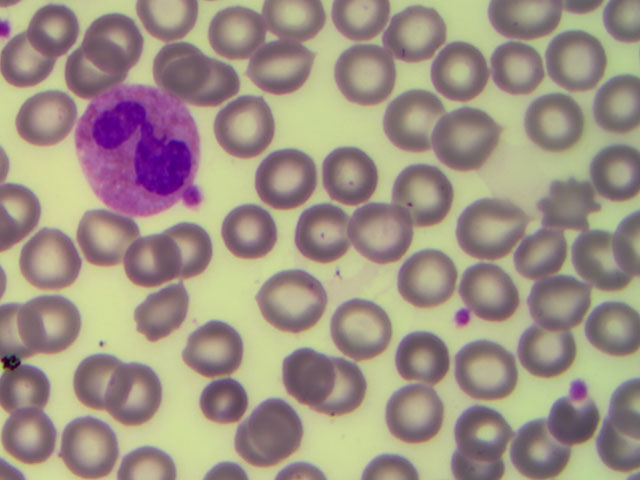Platelets: (569, 376, 587, 397), (451, 306, 469, 324)
RBC: (1, 33, 50, 84), (18, 92, 67, 143), (65, 43, 114, 94), (91, 14, 140, 65), (150, 32, 199, 83), (185, 56, 234, 107), (212, 7, 261, 58), (260, 42, 309, 93), (345, 48, 394, 99), (385, 8, 434, 59), (440, 45, 489, 96), (496, 43, 545, 94), (558, 24, 607, 75), (585, 70, 634, 121), (591, 144, 640, 195), (526, 95, 575, 146), (440, 109, 489, 160), (396, 90, 445, 141), (393, 166, 442, 217), (347, 209, 396, 260), (298, 198, 347, 249), (322, 151, 371, 202), (265, 149, 314, 200), (225, 204, 274, 255), (222, 99, 271, 150), (135, 231, 184, 282), (171, 215, 220, 266), (80, 209, 129, 260), (27, 231, 76, 282), (31, 285, 80, 336), (68, 351, 117, 402), (115, 368, 164, 419), (63, 423, 112, 474), (3, 406, 52, 457), (200, 369, 249, 420), (187, 330, 236, 381), (140, 290, 189, 341), (269, 275, 318, 326), (285, 358, 334, 409), (309, 354, 358, 405), (253, 404, 302, 455), (395, 326, 444, 377), (333, 300, 382, 351), (397, 394, 446, 445), (454, 403, 503, 454), (461, 344, 510, 395), (517, 330, 566, 381), (533, 282, 582, 333), (457, 264, 506, 315), (404, 251, 453, 302), (470, 207, 519, 258), (506, 228, 555, 279), (570, 227, 619, 278), (549, 177, 598, 228), (591, 303, 640, 354), (513, 421, 562, 472), (546, 392, 595, 443), (27, 1, 76, 51), (1, 305, 49, 356), (114, 443, 180, 480)
WBC: (74, 87, 203, 213)
